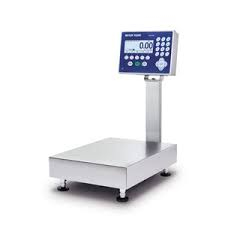Industrial Scale: (48, 30, 178, 203)
